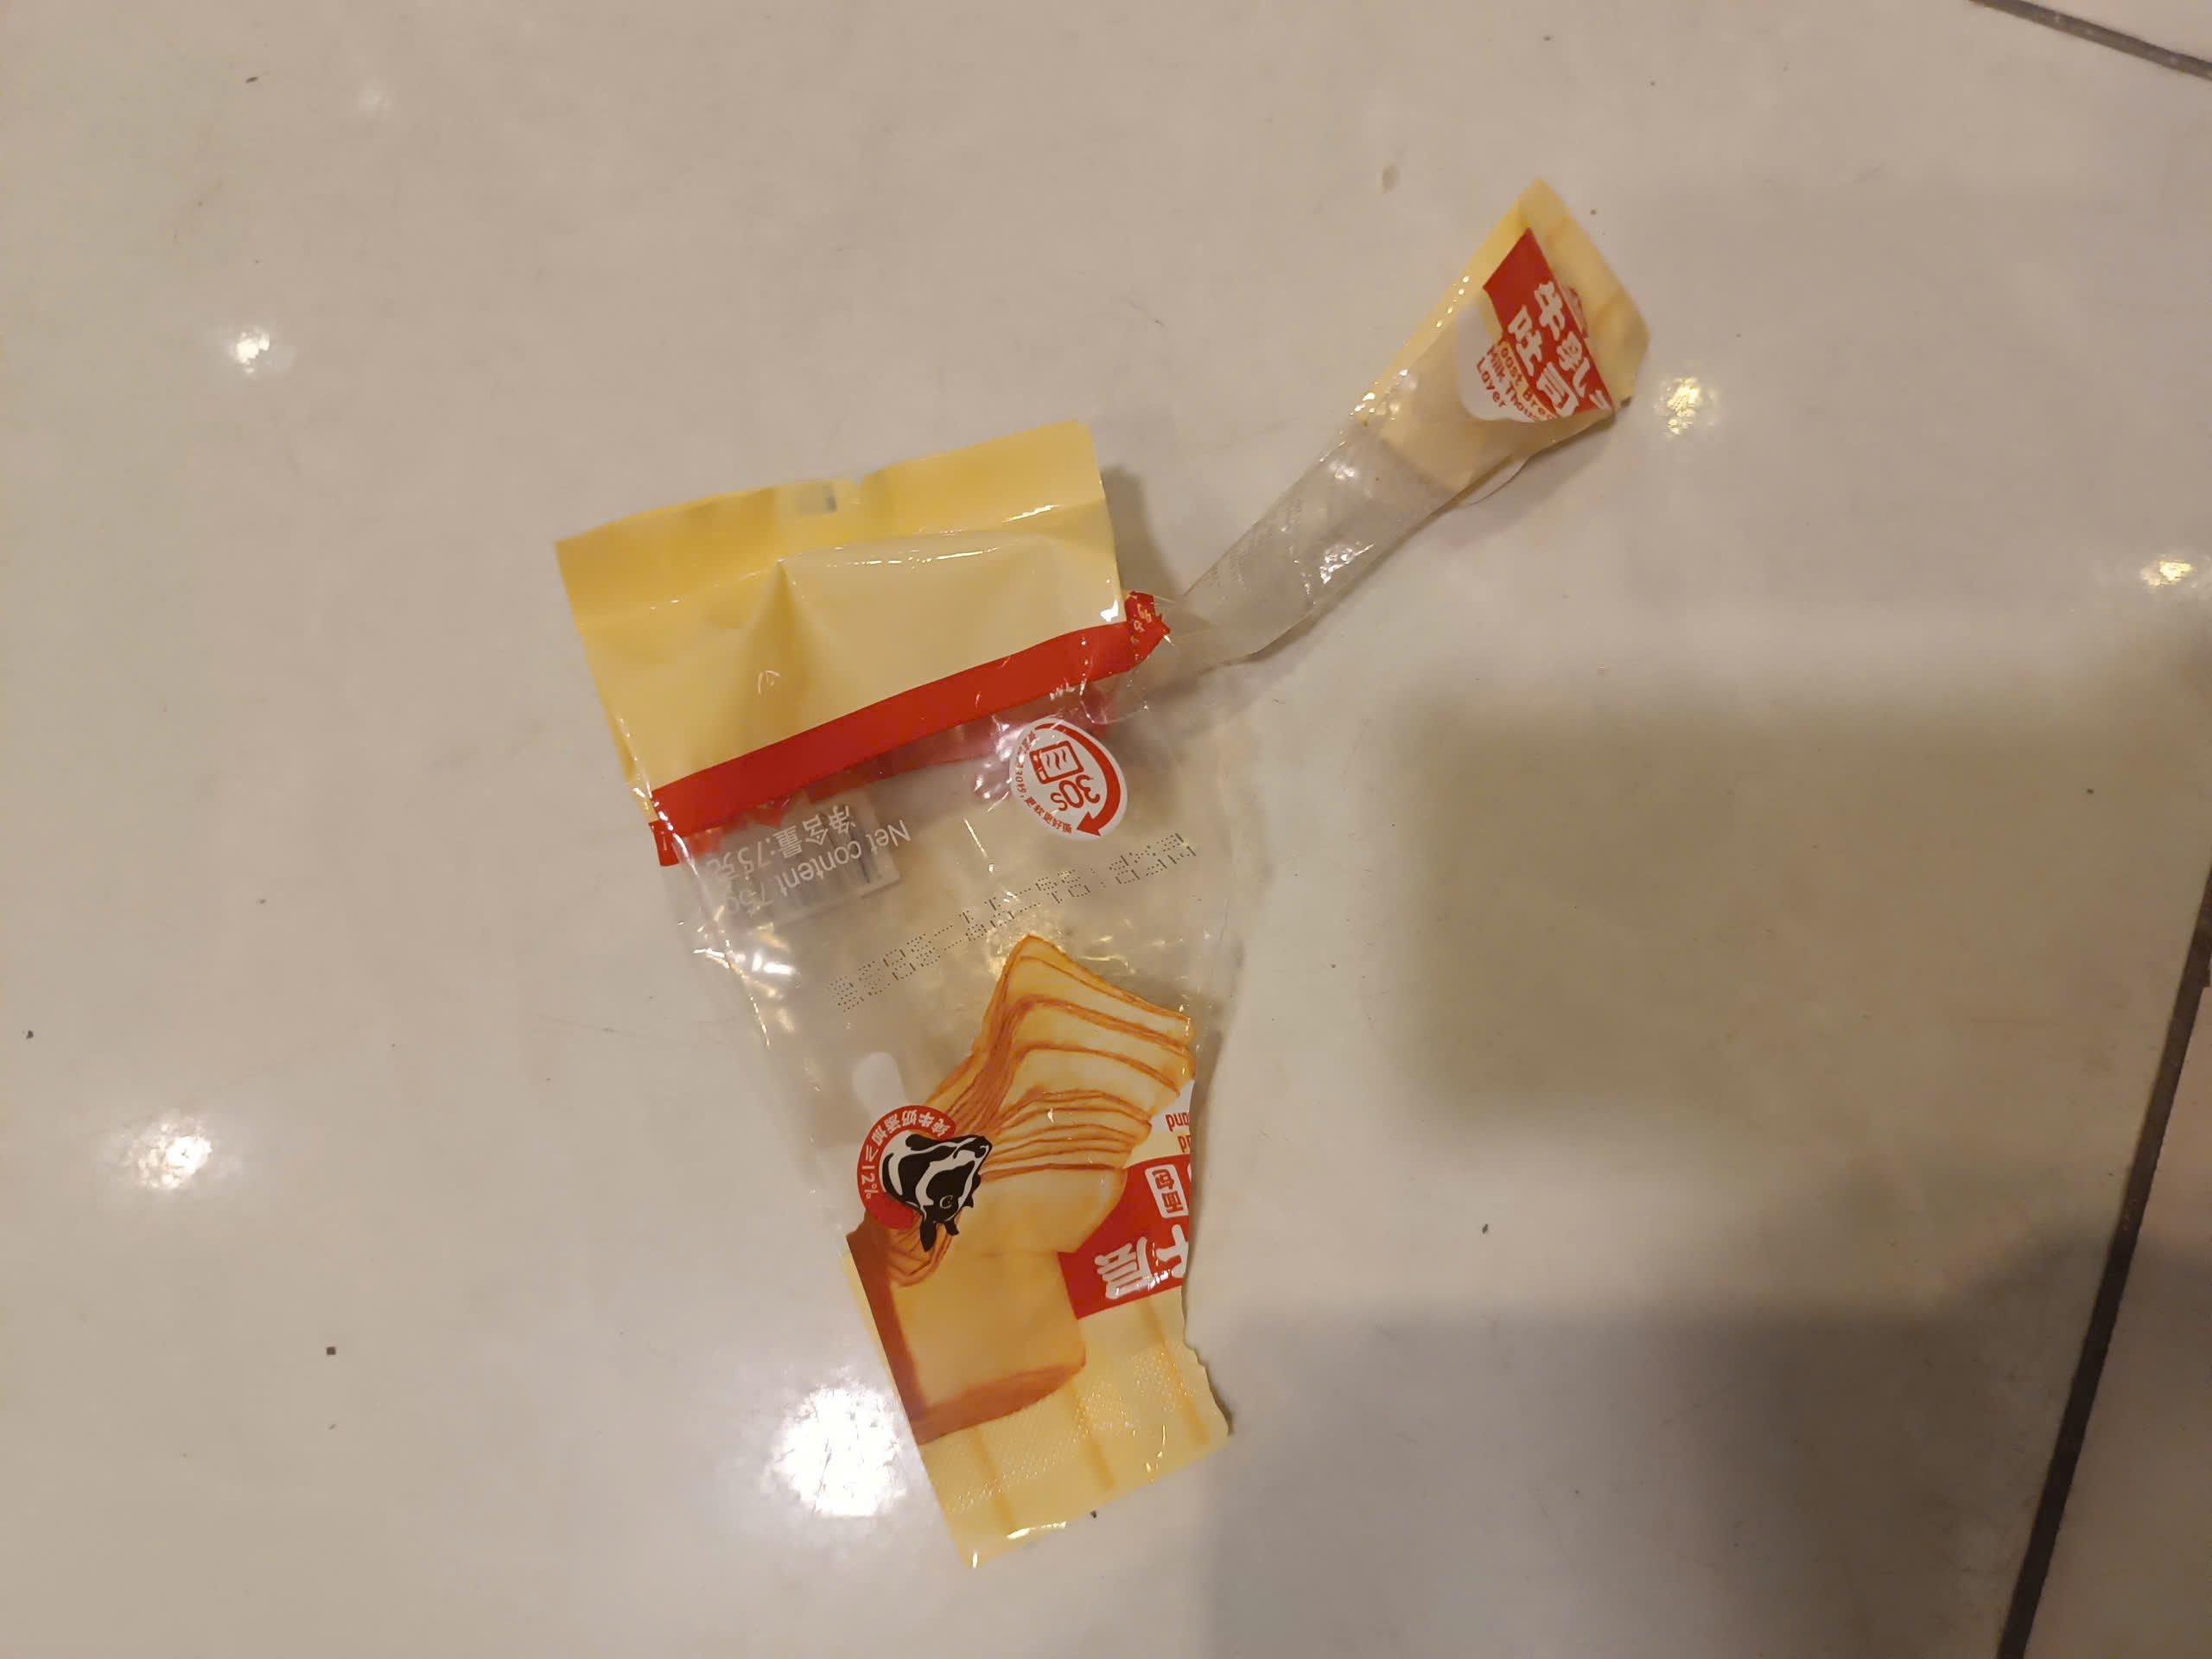Vo co: (554, 432, 1244, 1565)
